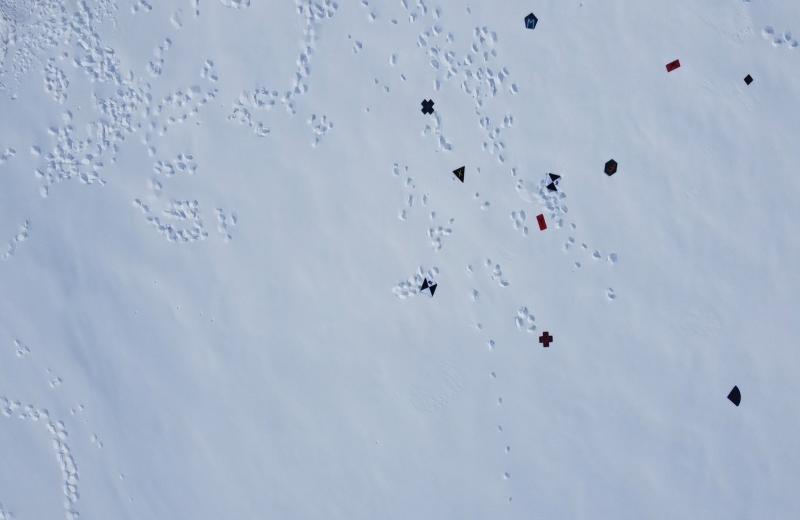Cross: (419, 100, 436, 118), (538, 330, 554, 349)
Hexagon: (602, 159, 619, 176)
Pentagon: (523, 12, 540, 30)
Quarter Circle: (726, 384, 743, 407)
Rectangle: (535, 212, 548, 231), (665, 59, 681, 74)
Square: (743, 73, 753, 86)
Triangle: (451, 163, 468, 184)
